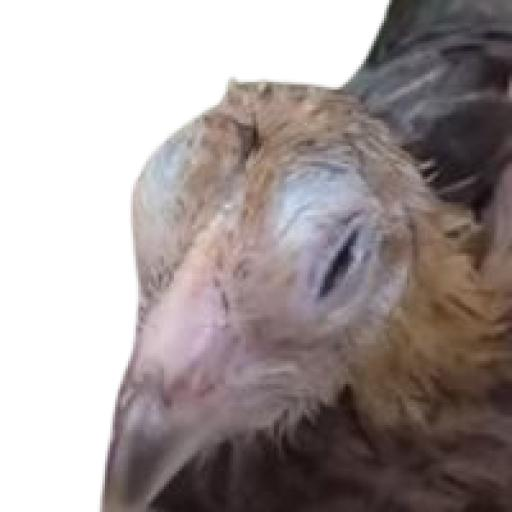disease: (266, 196, 397, 325)
